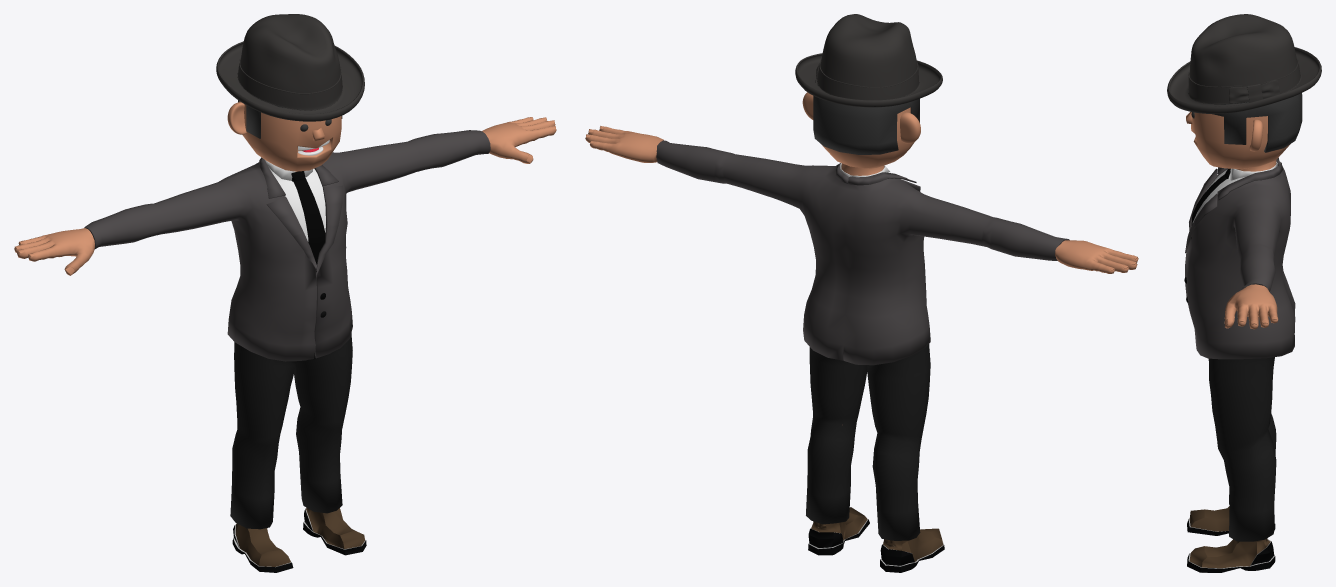
The model's file is dms413-1.fbx.
The picture shows the model from 3 angles, left to right: view 1: azimuth 30°, elevation 25°; view 2: azimuth 150°, elevation 25°; view 3: azimuth 270°, elevation 25°; orthographic projection.
Visible parts, largest first — view 1: SUIT, PANTS, homburg_hat, body, HEAD, shoe, SHIRT', Cube.001; view 2: SUIT, PANTS, homburg_hat, hair, body, shoe, HEAD, EARS; view 3: SUIT, homburg_hat, PANTS, shoe, HEAD, hair, body, SHIRT', Cube.001, EARS.
Part boxes in pixels (x1,y1,x2,y2): SUIT: [84, 130, 490, 361]; PANTS: [230, 333, 352, 529]; homburg_hat: [216, 14, 364, 121]; body: [14, 117, 556, 275]; HEAD: [239, 101, 341, 171]; shoe: [232, 507, 366, 572]; SHIRT': [264, 159, 325, 241]; Cube.001: [291, 171, 325, 264]; SUIT: [656, 140, 1069, 365]; PANTS: [806, 344, 930, 540]; homburg_hat: [795, 14, 942, 107]; hair: [813, 84, 919, 154]; body: [585, 126, 1138, 273]; shoe: [808, 507, 944, 572]; HEAD: [821, 107, 914, 168]; EARS: [802, 92, 920, 143]; SUIT: [1185, 158, 1295, 359]; homburg_hat: [1167, 14, 1321, 113]; PANTS: [1208, 357, 1276, 541]; shoe: [1187, 506, 1275, 572]; HEAD: [1191, 112, 1290, 169]; hair: [1212, 93, 1302, 152]; body: [1224, 160, 1278, 329]; SHIRT': [1192, 162, 1277, 223]; Cube.001: [1191, 168, 1230, 238]; EARS: [1249, 119, 1263, 151].
Bounding box in the file's own units: 232 × 215 × 57.71.
